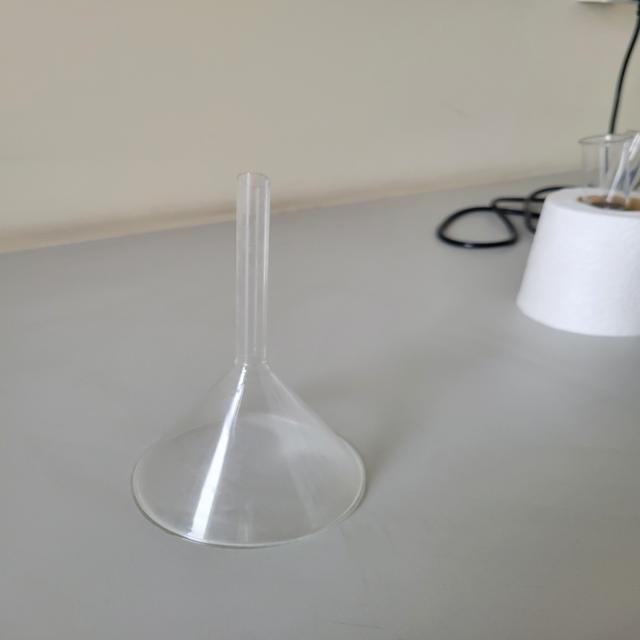Funnel: (117, 140, 389, 572)
